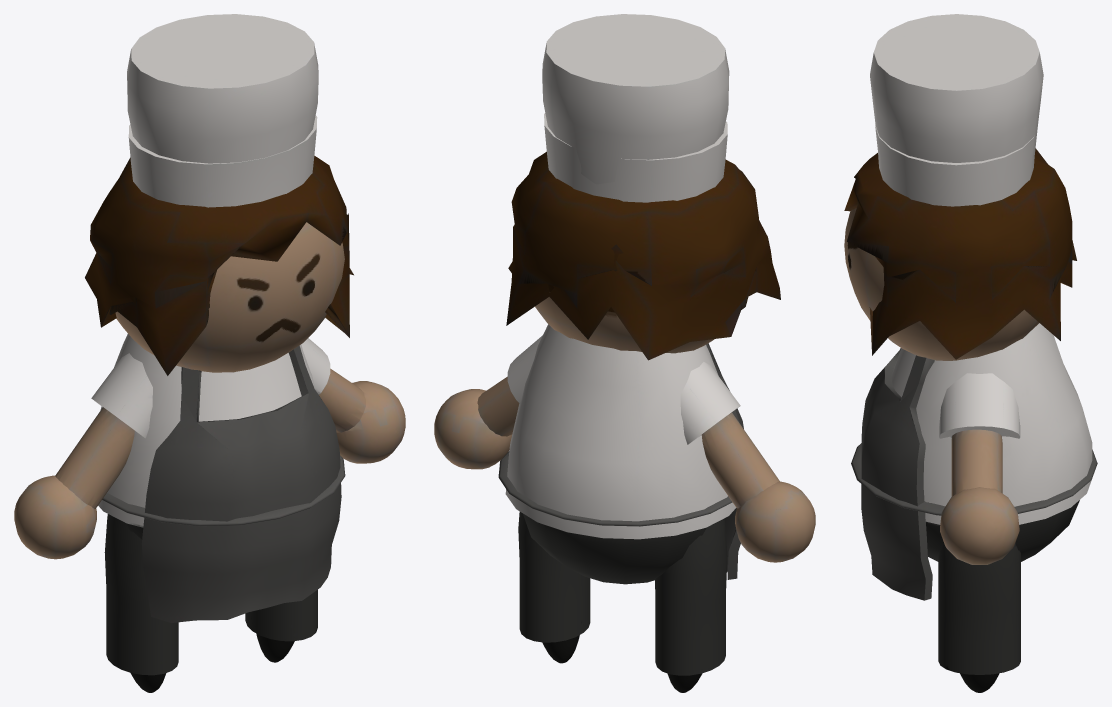
Rendered from chef.fbx.
3 renders of one model, left to right at view 1: azimuth 30°, elevation 25°; view 2: azimuth 150°, elevation 25°; view 3: azimuth 270°, elevation 25°, orthographic. The views are drawn at different scales.
Visible parts, largest first — view 1: pSphere6; view 2: pSphere6; view 3: pSphere6.
Boxes of the visible parts, <box> form: pSphere6: <box>14,14,405,692</box>; pSphere6: <box>434,14,815,692</box>; pSphere6: <box>844,14,1097,692</box>.
Size of the model in its own units: 10.49 by 16.74 by 6.3.
Materials: 1 (1 with a texture image).
